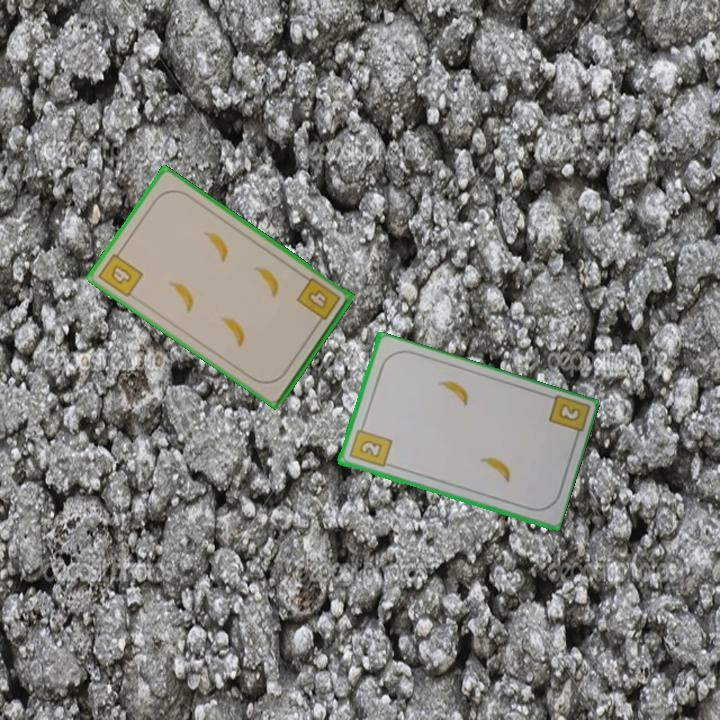2b: (345, 421, 394, 470), (555, 400, 583, 425)
4b: (94, 245, 146, 300), (293, 274, 343, 329)
